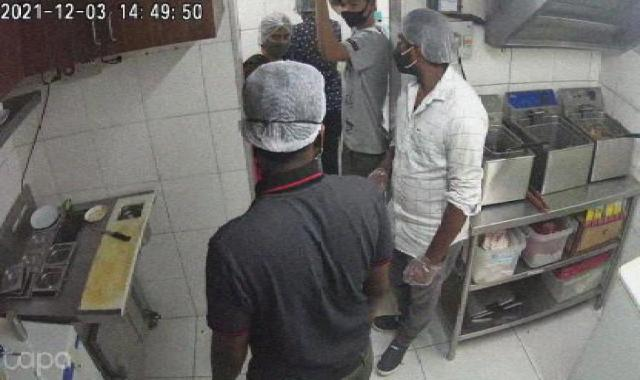hairnet: (228, 64, 339, 154), (389, 6, 480, 70), (251, 13, 308, 54)
